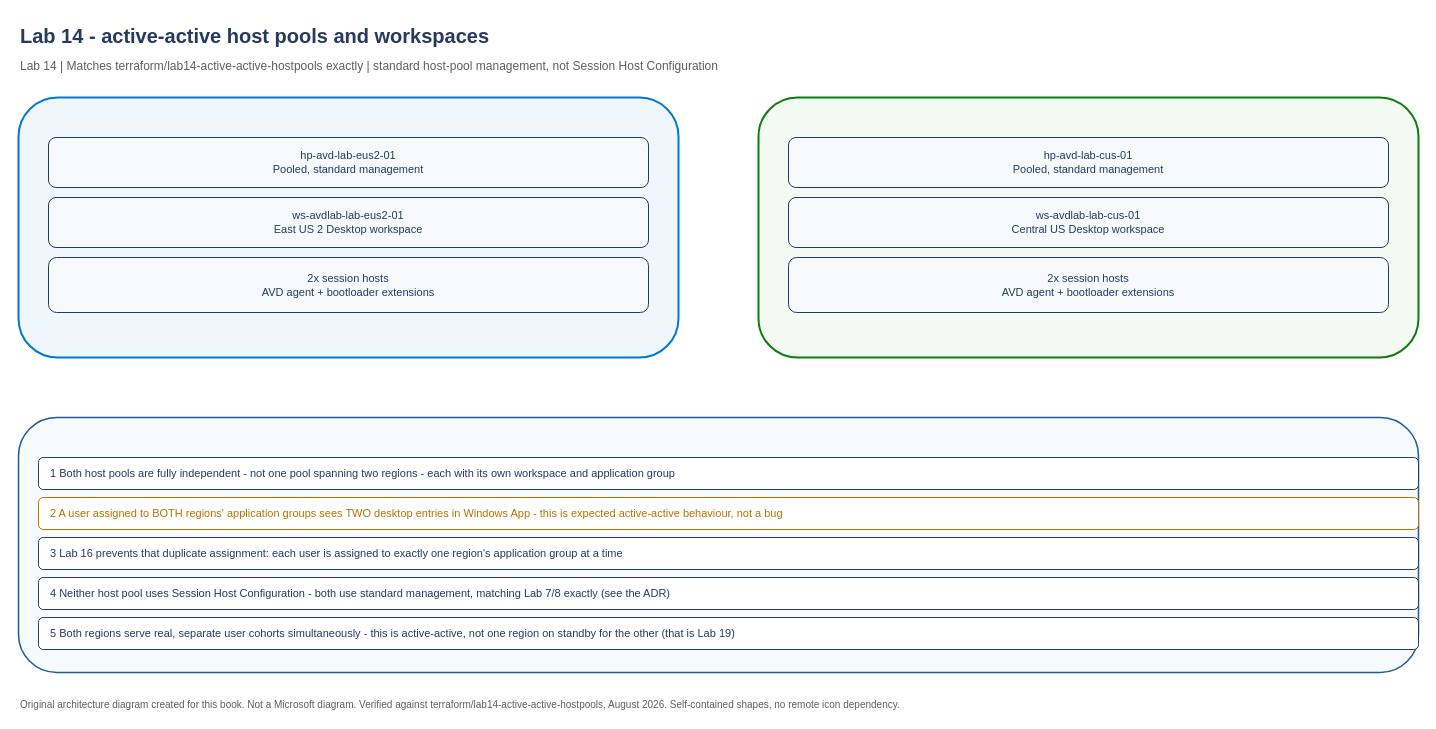
Image size: 1436x729. Some labels were removed from this diagram. The shapes that lost their labels are listed below. From the top down, each one's box as (x1, y1, x2, y2) in pixels, then its label:
(17, 96, 679, 358): EASTUS2 (LAB 7-8, EXISTING)
(757, 96, 1419, 358): CENTRALUS (LAB 14, NEW)
(17, 416, 1419, 673): FLOWS AND DESIGN NOTES
